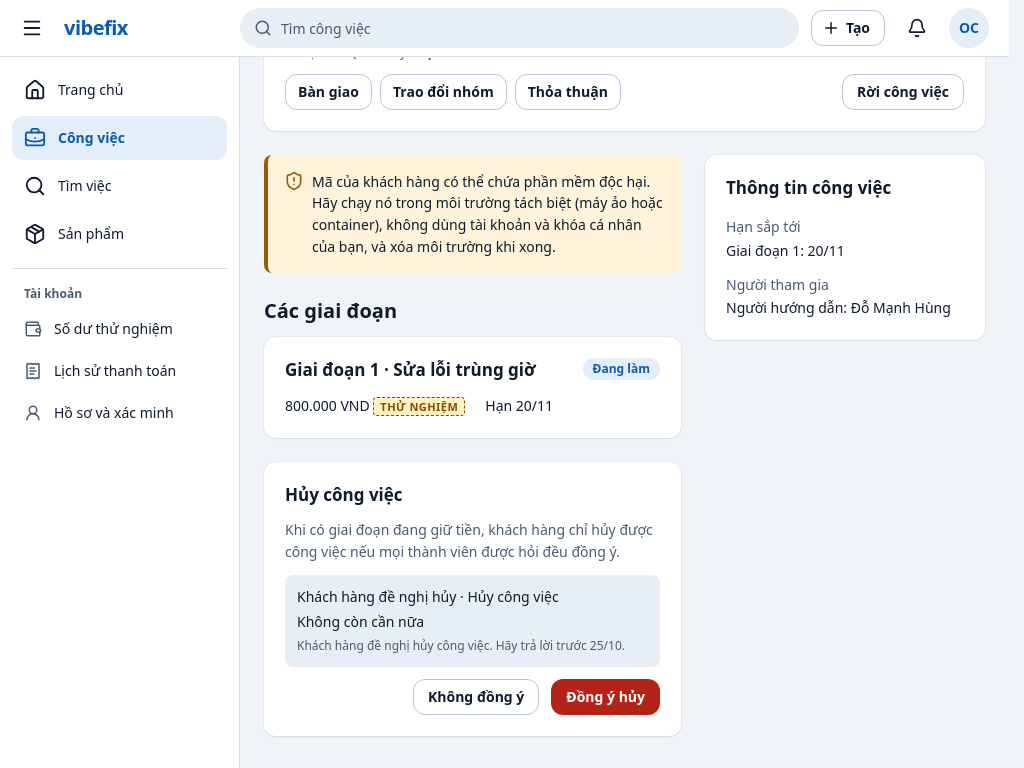
it: JOB-1 cancellation of a Self-mentored Job (Story 25.7, R14, R56, R57) › lets a member agree, after a dialog that says the answer is final
(page scrolled)
Expected: the text "Khách hàng đề nghị hủy công việc. Hãy trả lời trước 25/10." is shown, [297,637,648,655]
Expected: the text "Không còn cần nữa" is shown, [297,612,424,631]
Click the button "Đồng ý hủy" at (606, 697), box [551,679,660,715]
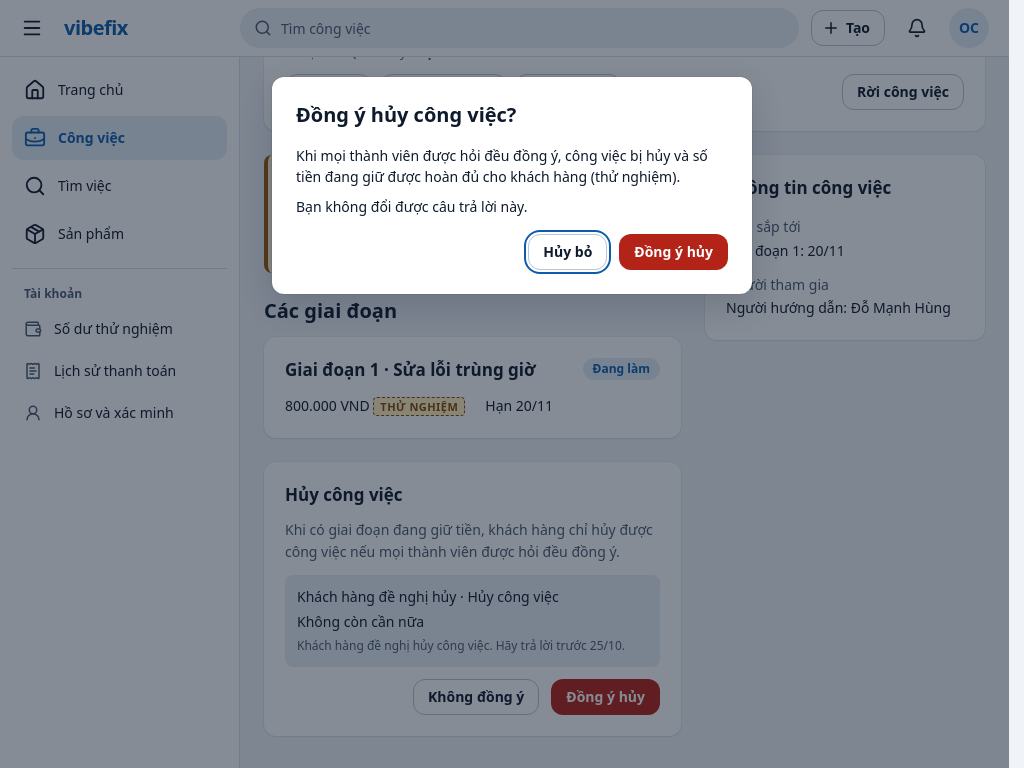
Expected: the text "hoàn đủ cho khách hàng" is shown, [296,146,708,186]
Expected: the text "Bạn không đổi được câu trả lời này." is shown, [296,197,527,216]
Click the button "Đồng ý hủy" at (674, 252), box [619,234,728,270]
(page scrolled)
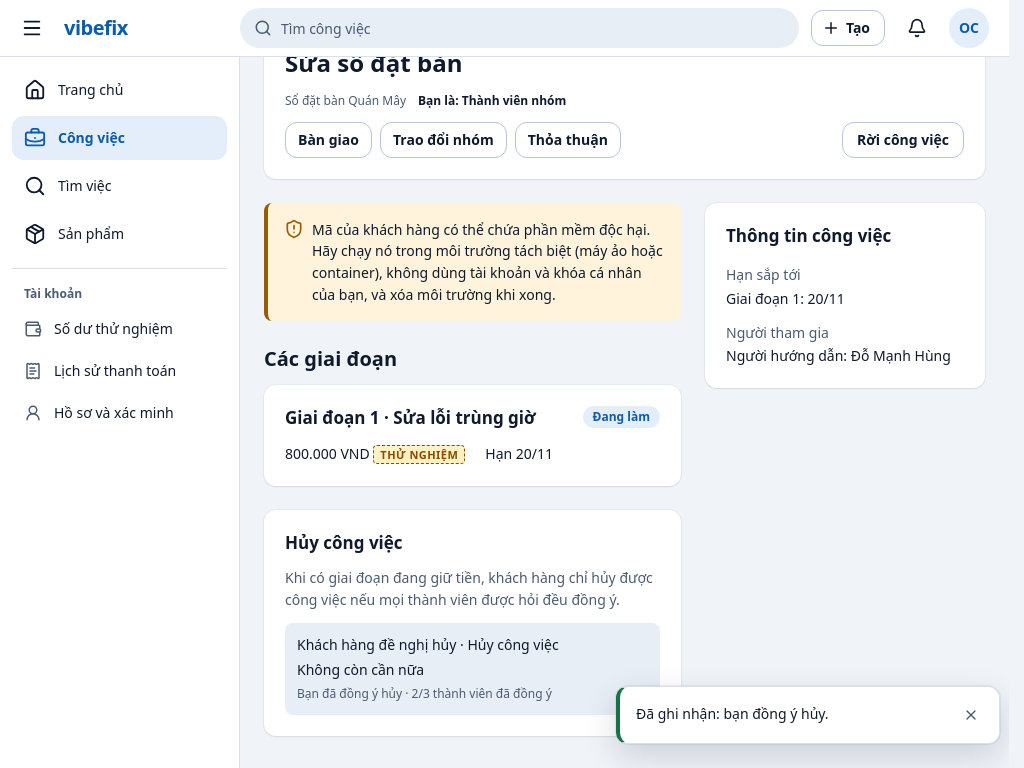
Expected: the text "Bạn đã đồng ý hủy · 2/3 thành viên đã đồng ý" is shown, [297,685,552,702]
Expected: the button "Không đồng ý" is gone
